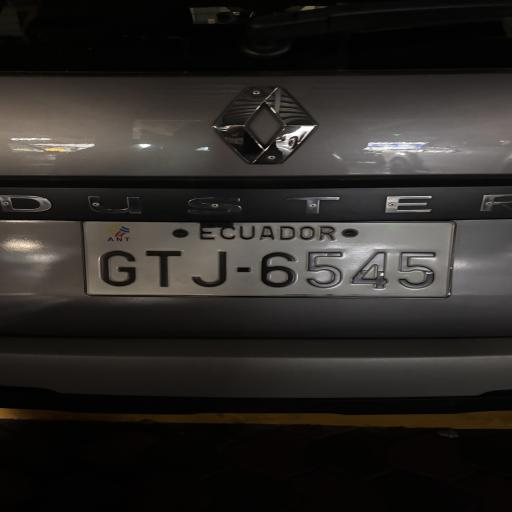license_plate: (84, 222, 454, 297)
